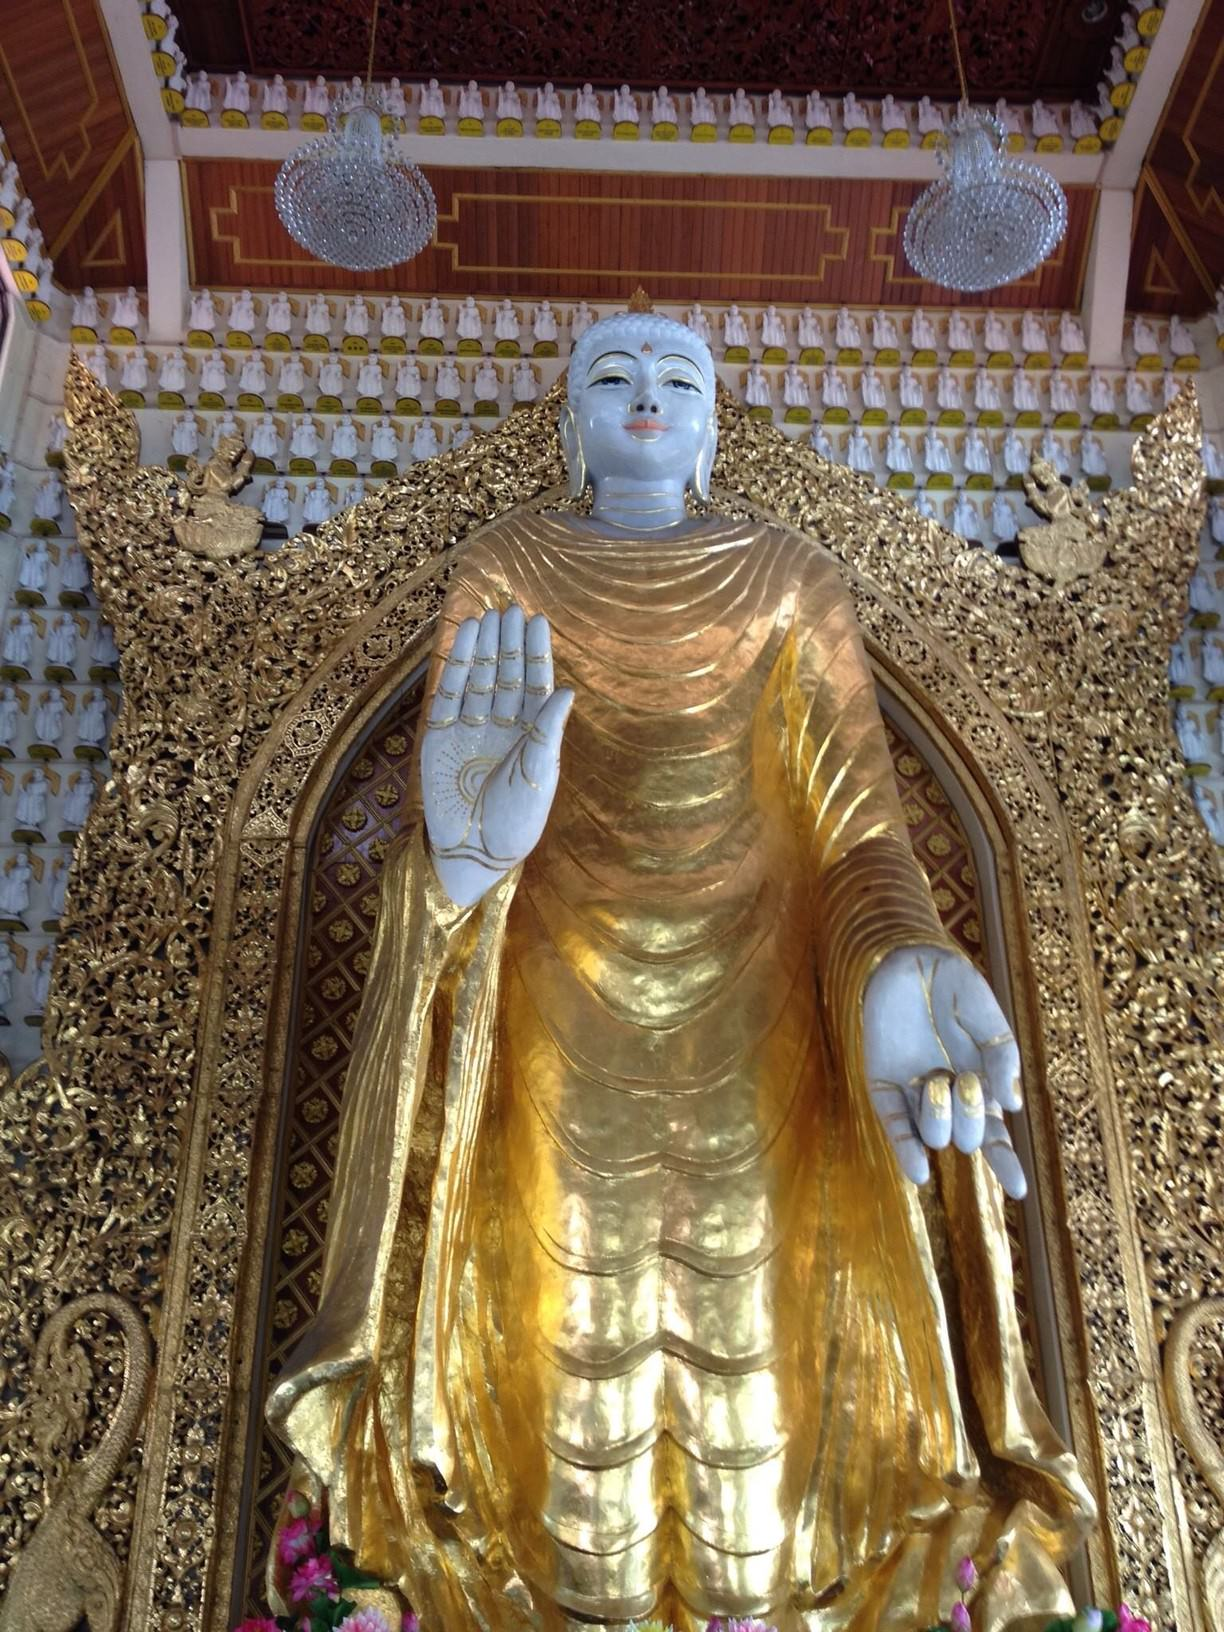Buddhist Temple: (374, 276, 1022, 1543)
